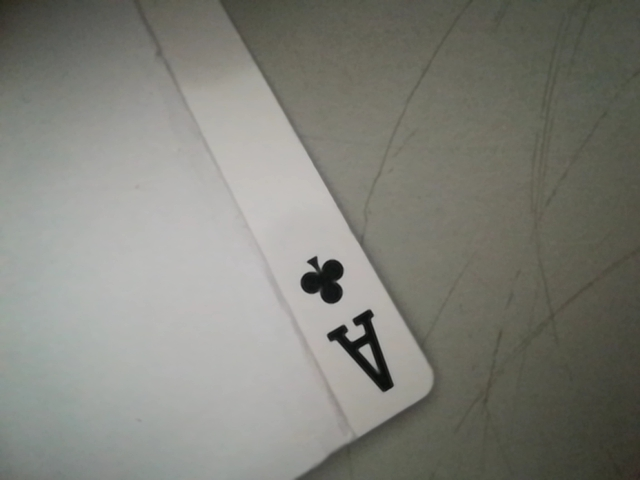mh a: (286, 244, 419, 407)
